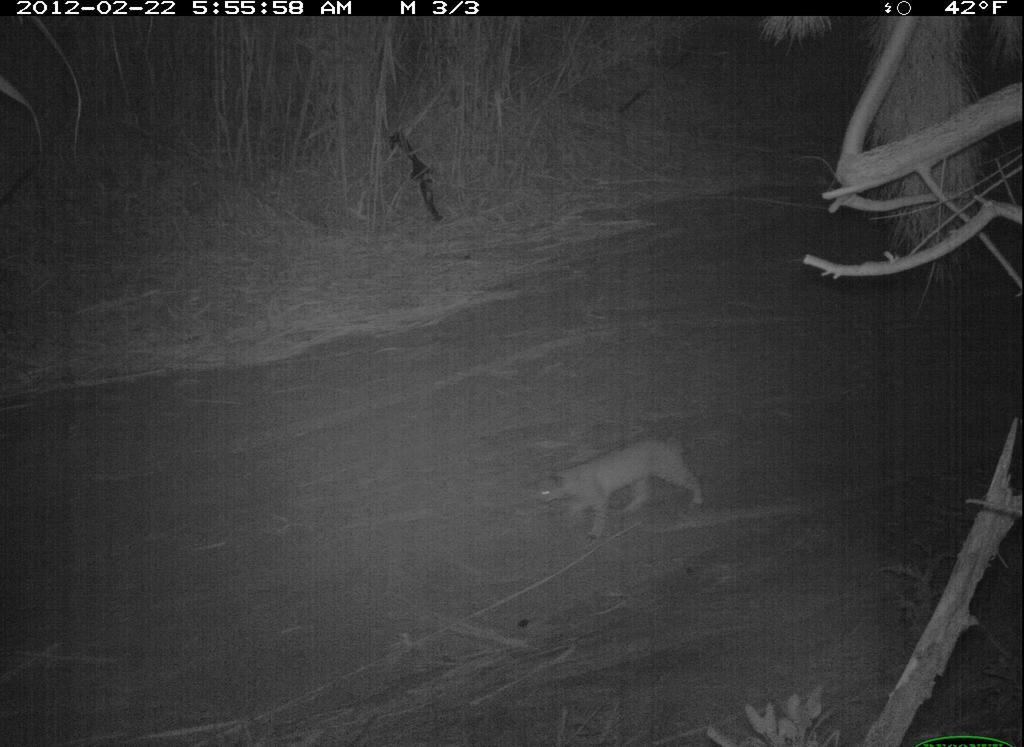bobcat: (528, 424, 713, 552)
